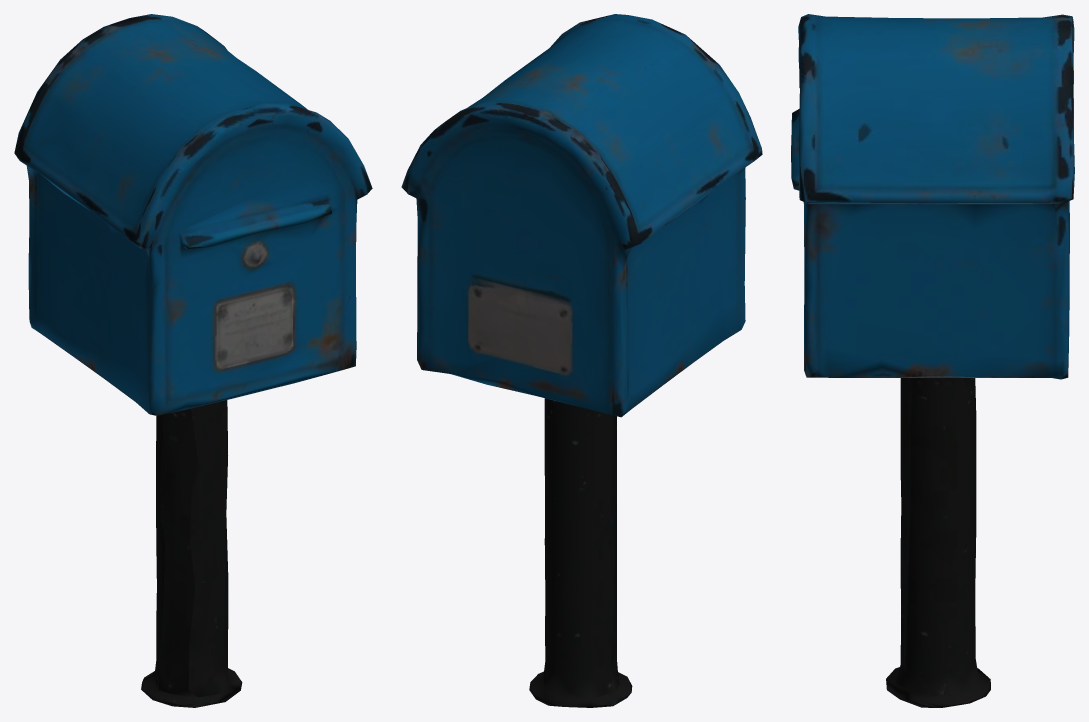
Rendered from street-mailbox.glb.
3 renders of one model, left to right at view 1: azimuth 30°, elevation 25°; view 2: azimuth 150°, elevation 25°; view 3: azimuth 270°, elevation 25°, orthographic. The views are drawn at different scales.
Visible parts, largest first — view 1: Mesh_0.009; view 2: Mesh_0.009; view 3: Mesh_0.009.
Part boxes in pixels (x1,y1,x2,y2): Mesh_0.009: (14,14,372,707); Mesh_0.009: (401,14,762,707); Mesh_0.009: (791,14,1074,707).
Bounding box in the file's own units: 0.4548 × 1.15 × 0.4487.
Materials: 1 (1 with a texture image).
